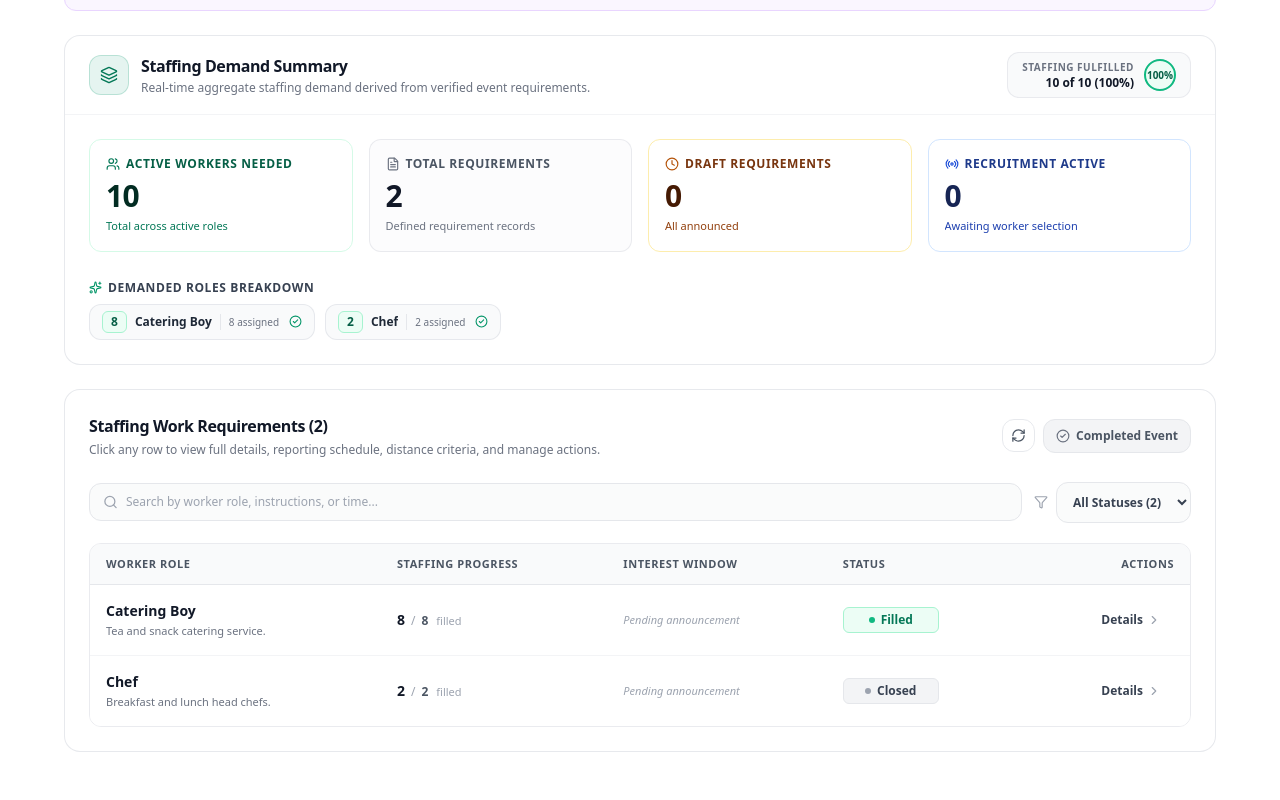
Test: Work Requirements on Completed Events › 3. Modifying actions (Announce, Edit, Cancel, Extend) are not available on completed event
(page scrolled)
Expected: the heading "Staffing Work Requirements (2)" is shown, [89, 414, 328, 436]
// Clicking Details opens details modal where Staffing Results is accessible
Click the button "Details" in the row of "Tea and snack catering service.". click: (1131, 620)
box: [1088, 604, 1174, 634]
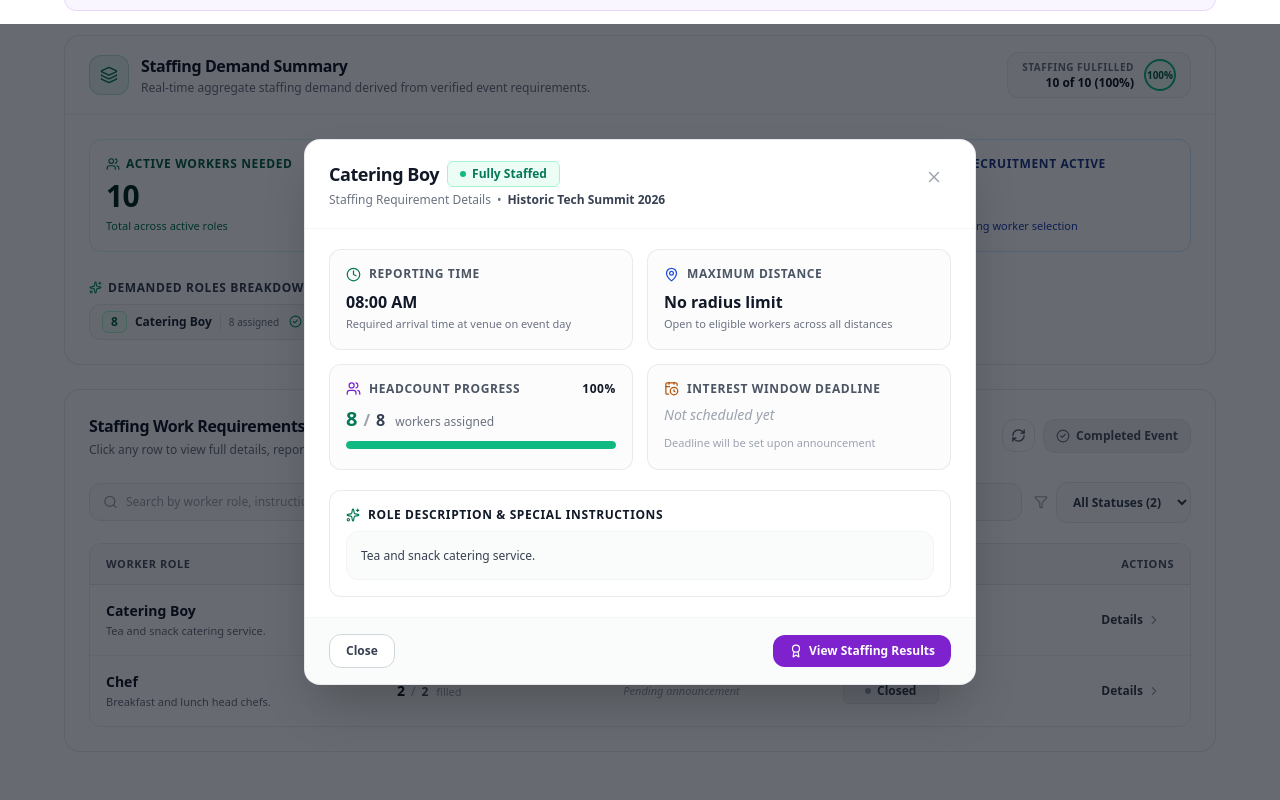
Expected: the button "View Staffing Results" is shown, [773, 635, 951, 667]
